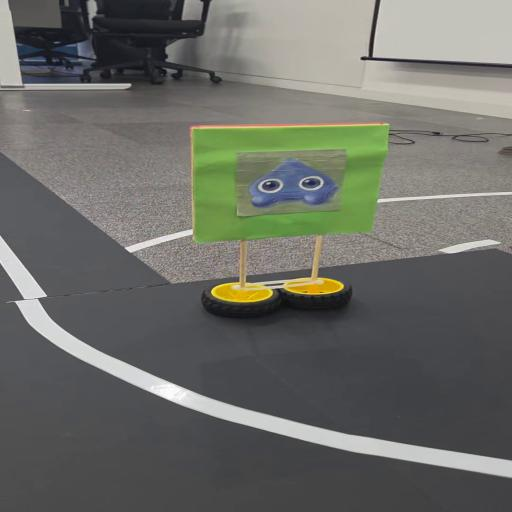Sign_B: (174, 116, 411, 318)
